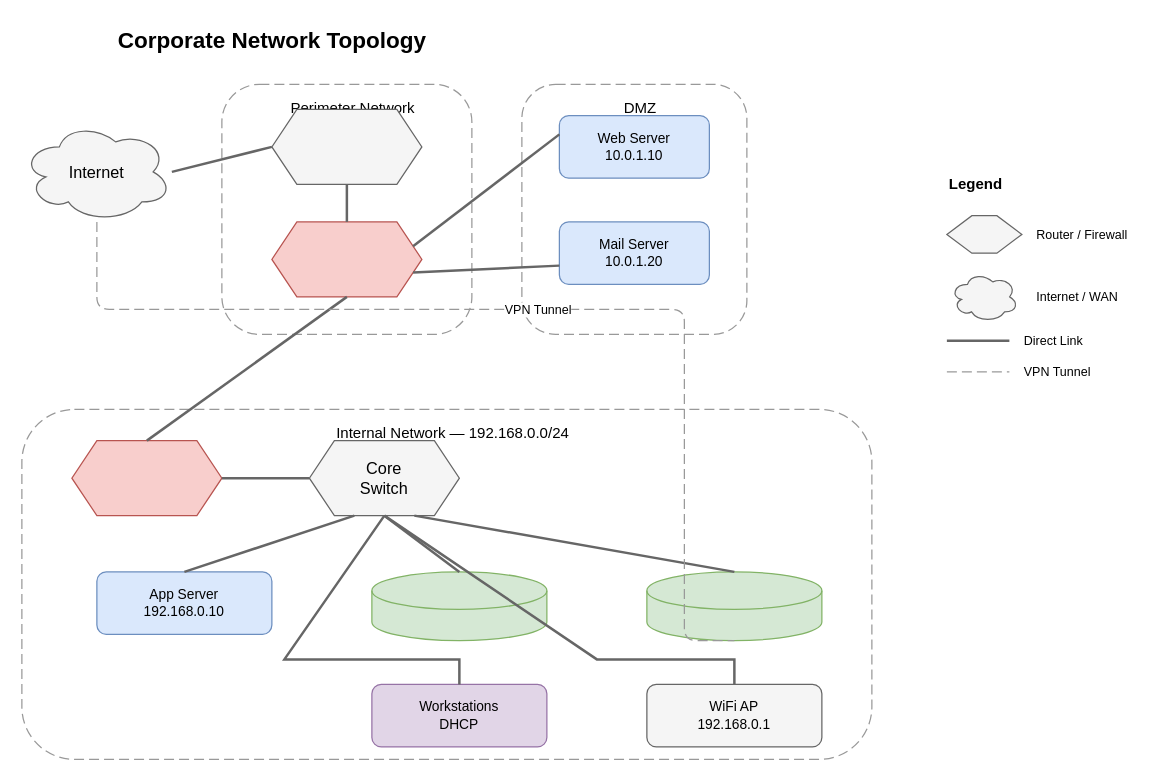
Some shapes in this 1169 by 781 pixel diagram are drawn without their labels. The shapes that lost their labels are listed below. From the top down, each one's centre as x and y in pixels, then its label:
the point at 346,146: Edge Router
the point at 346,259: Perimeter Firewall
the point at 146,477: Internal Firewall
the point at 459,606: DB Server 192.168.0.20
the point at 734,606: NAS Storage 192.168.0.30
